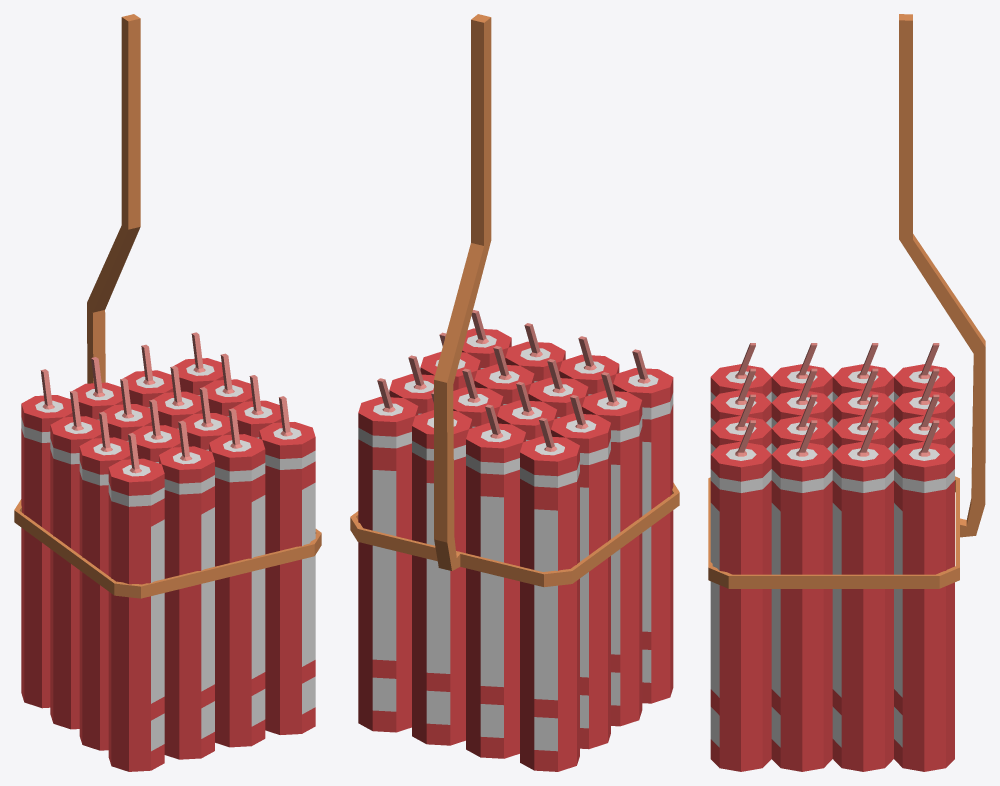
Rendered from TNT.fbx.
The picture shows the model from 3 angles, left to right: view 1: azimuth 30°, elevation 25°; view 2: azimuth 150°, elevation 25°; view 3: azimuth 270°, elevation 25°; orthographic projection. The views are drawn at different scales.
Parts seen in each view (by area): view 1: TNT; view 2: TNT; view 3: TNT.
Boxes of the visible parts, left/top/right/bottom form: TNT: left=14, top=14, right=321, bottom=771; TNT: left=350, top=14, right=679, bottom=771; TNT: left=708, top=14, right=985, bottom=771.
Size of the model in its own units: 101 by 311 by 111.
